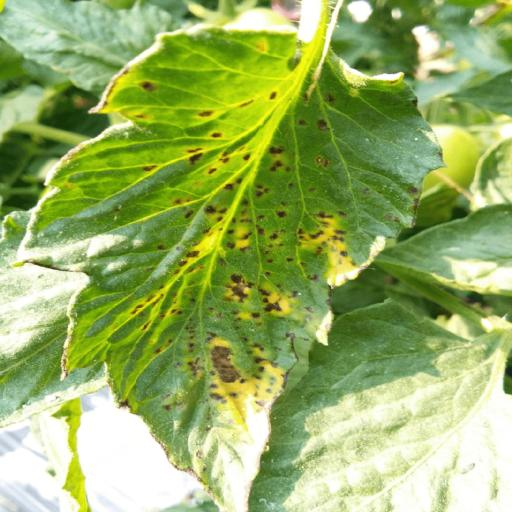Bacterial Spot: (9, 19, 448, 512)
